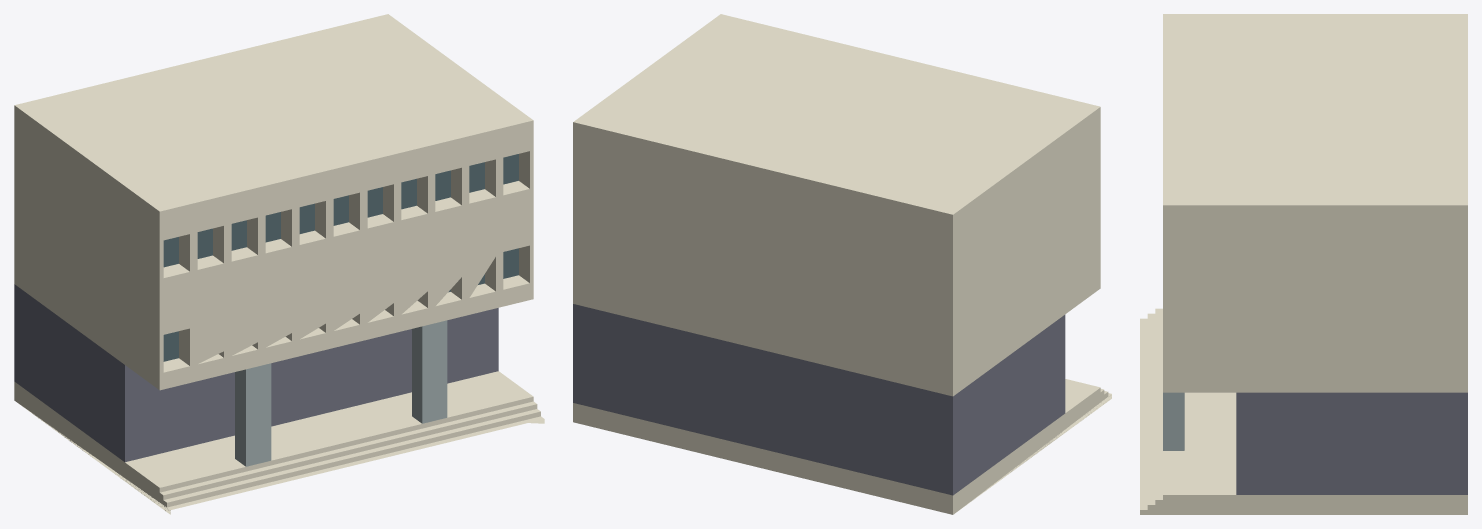
File: Building60.fbx
The picture shows the model from 3 angles, left to right: view 1: azimuth 30°, elevation 25°; view 2: azimuth 150°, elevation 25°; view 3: azimuth 270°, elevation 25°; orthographic projection. The views are drawn at different scales.
Visible parts, largest first — view 1: 큐브.001; view 2: 큐브.001; view 3: 큐브.001.
Part boxes in pixels (bbox=[...]): 큐브.001: bbox=[14, 14, 544, 514]; 큐브.001: bbox=[573, 14, 1111, 514]; 큐브.001: bbox=[1140, 14, 1467, 514].
Bounding box in the file's own units: 2419 × 3341 × 2522.
